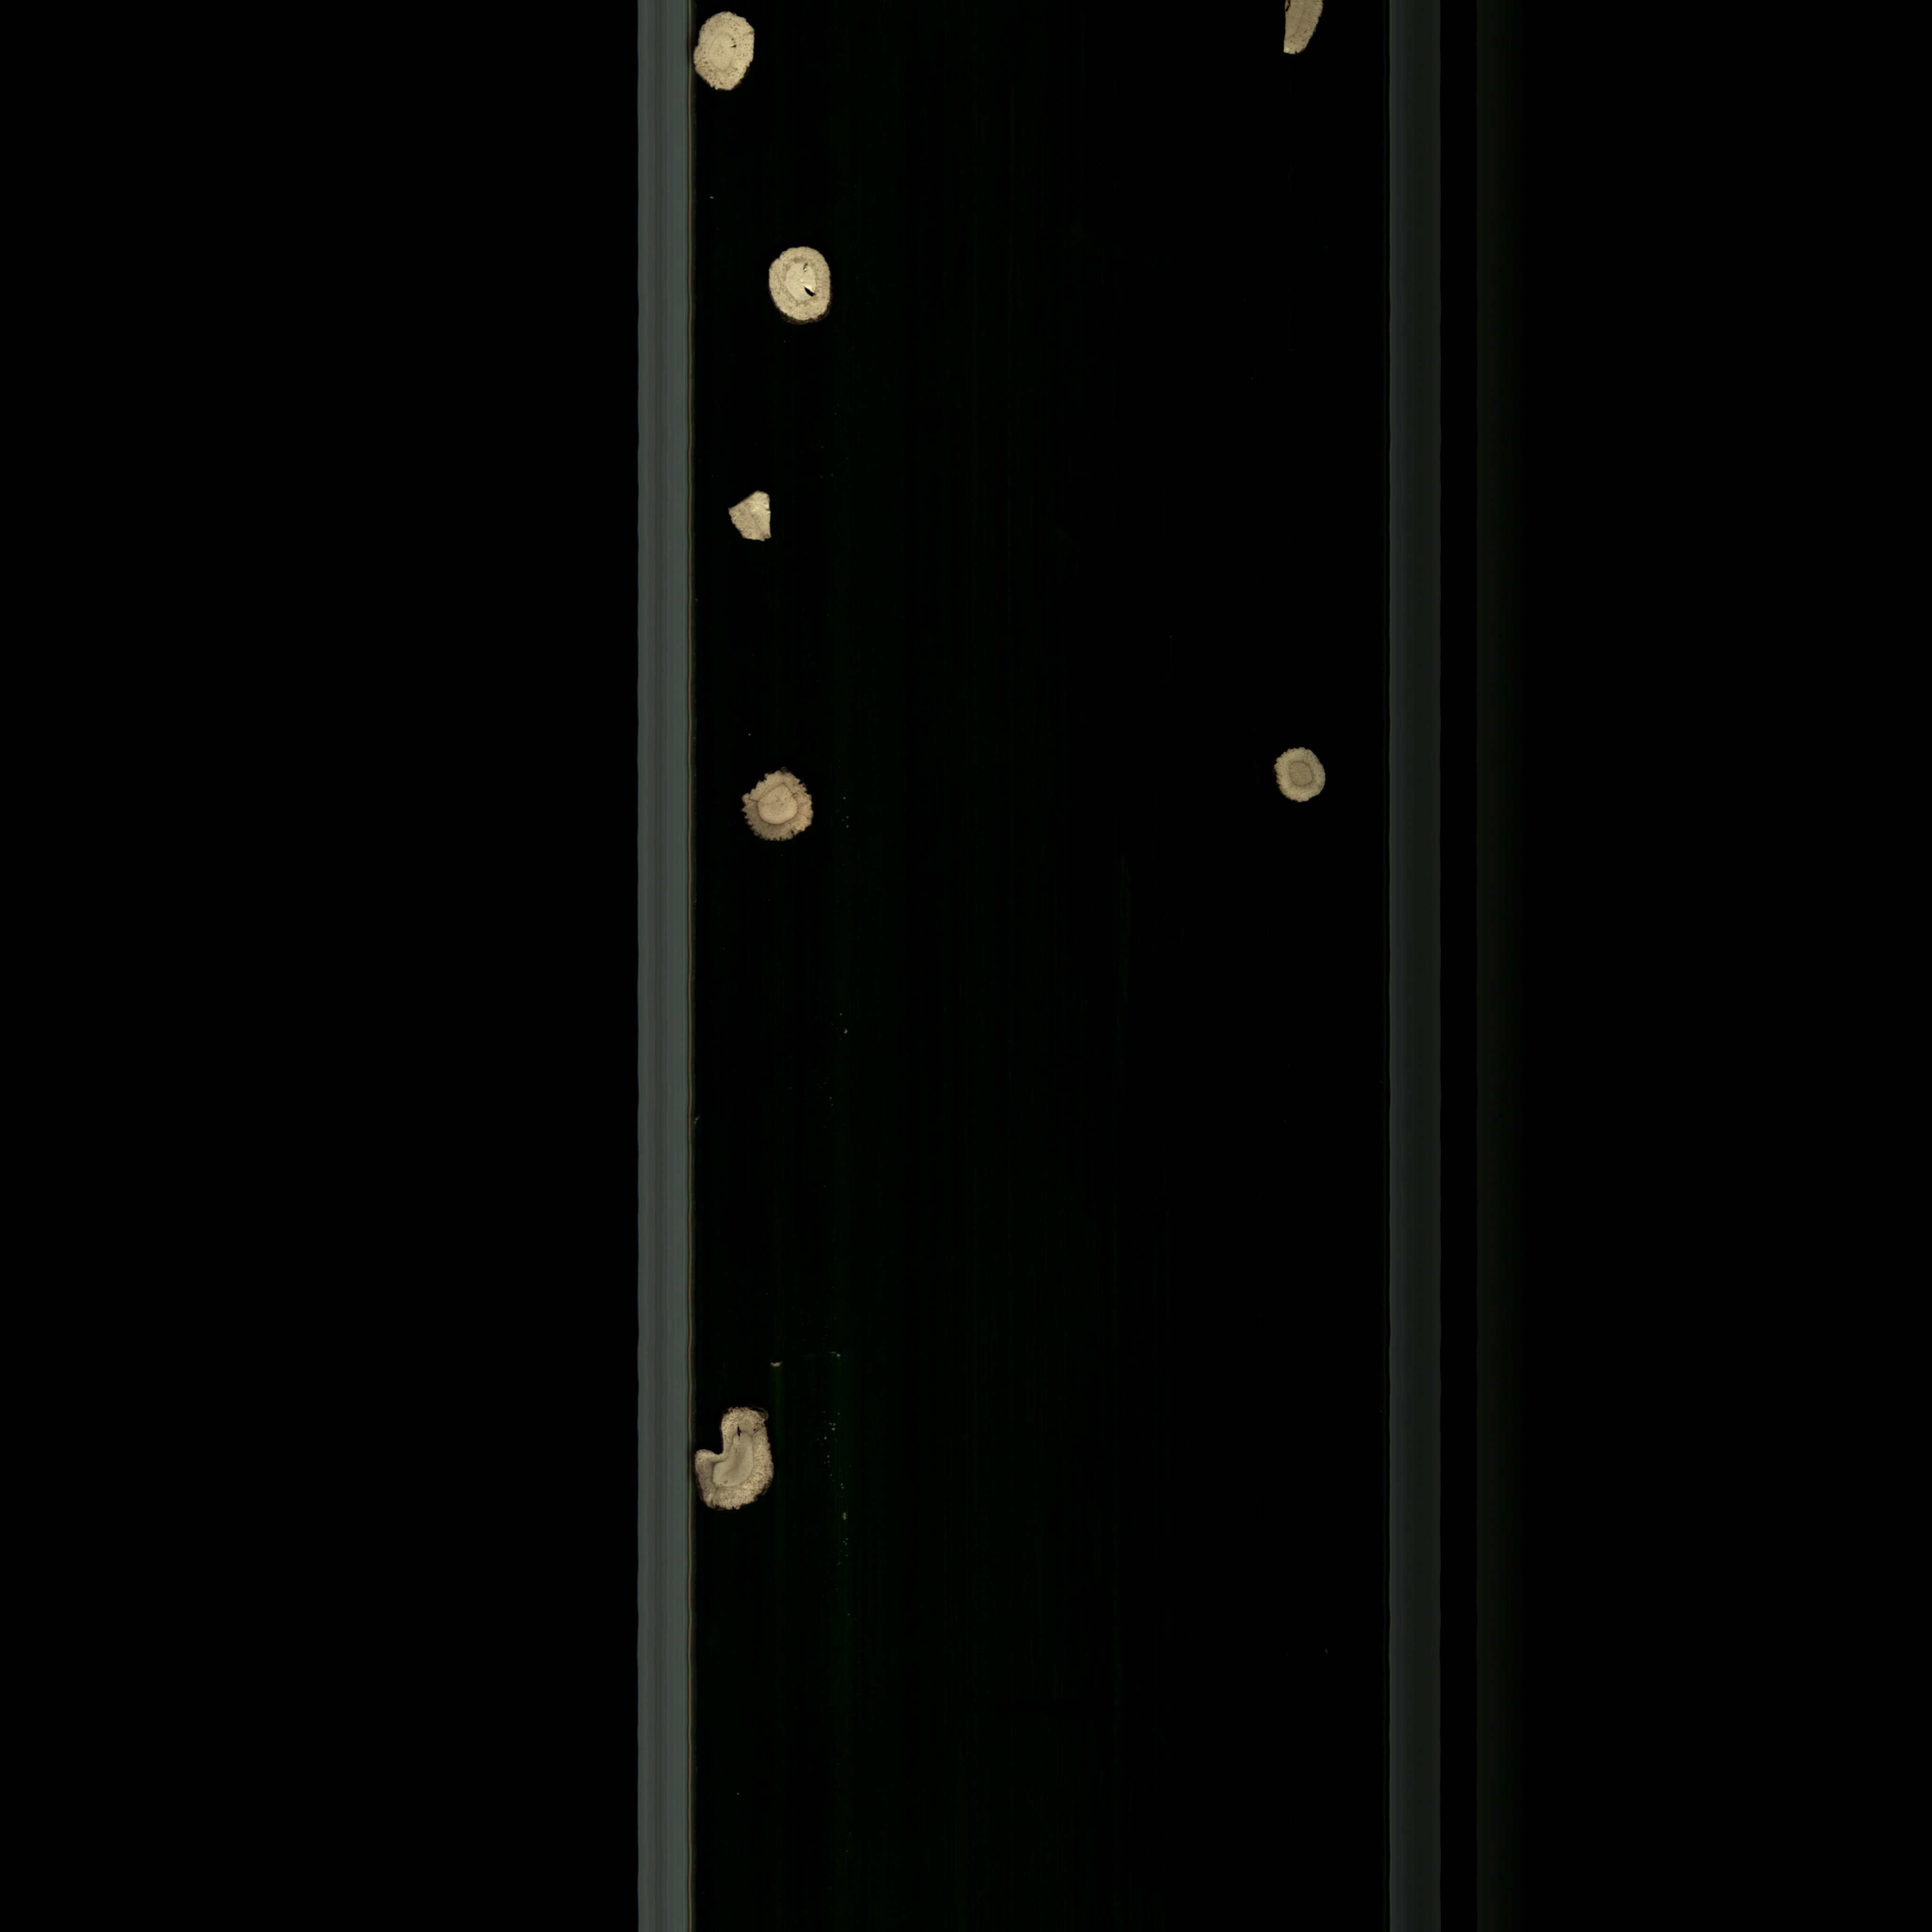distortion: (690, 1392, 794, 1520)
dreg: (725, 479, 800, 563)
hole: (757, 237, 837, 336)
moldy: (729, 764, 832, 856), (1260, 731, 1336, 814)
